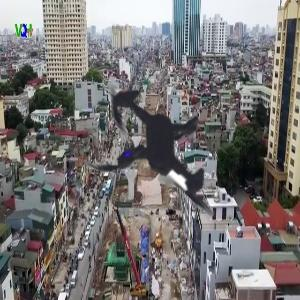drone: (27, 26, 288, 287)
